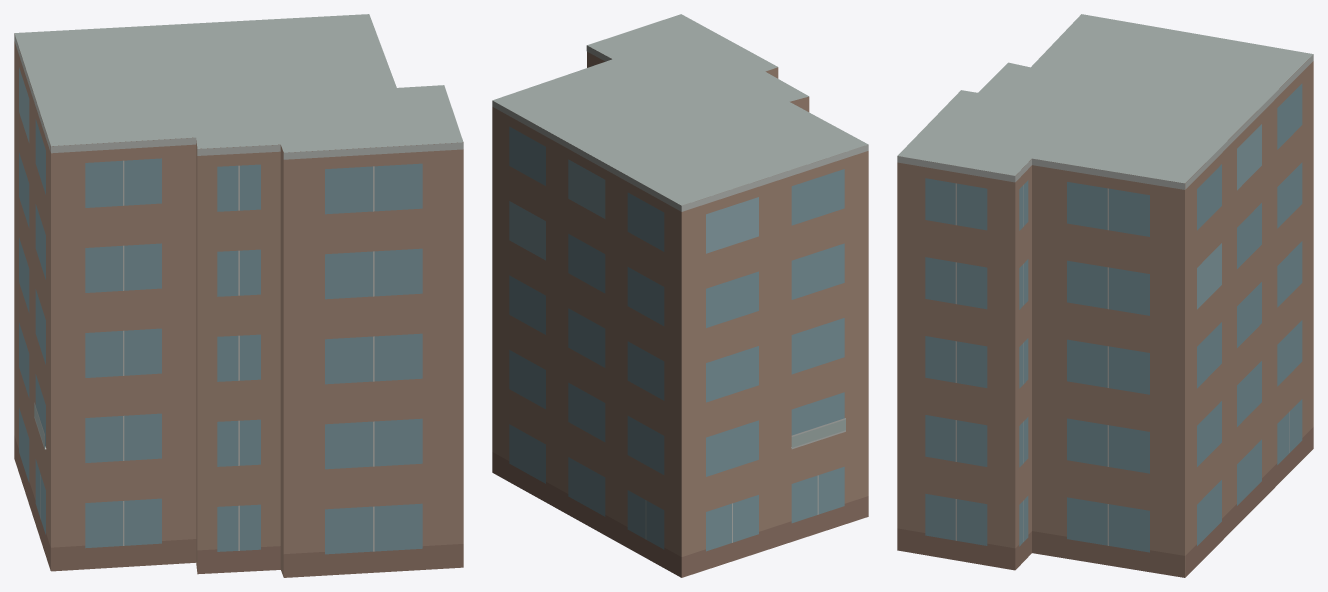
File: survey-upis-32911129.glb
3 views of the same model, side by side, from view 1: azimuth 30°, elevation 25°; view 2: azimuth 150°, elevation 25°; view 3: azimuth 270°, elevation 25° (orthographic). The views are drawn at different scales.
Visible parts, largest first — view 1: survey-upis-32911129.tmp; view 2: survey-upis-32911129.tmp; view 3: survey-upis-32911129.tmp.
Boxes of the visible parts, x1,y1,x2,y2 form: survey-upis-32911129.tmp: (14, 14, 463, 577); survey-upis-32911129.tmp: (492, 14, 868, 577); survey-upis-32911129.tmp: (897, 14, 1313, 577).
Size of the model in its own units: 13.55 by 14.7 by 14.07.
